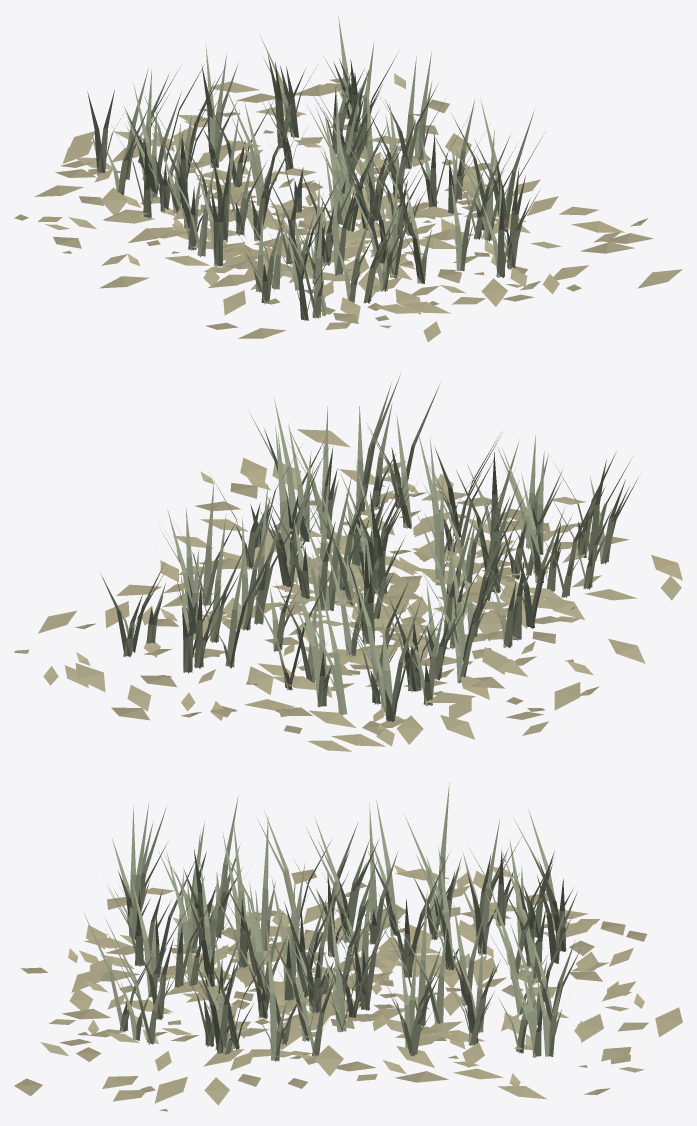
The model's file is AE_C02_IndoorGrowth.fbx.
3 renders of one model, top to bottom at view 1: azimuth 30°, elevation 25°; view 2: azimuth 150°, elevation 25°; view 3: azimuth 270°, elevation 25°, orthographic. The views are drawn at different scales.
Visible parts, largest first — view 1: AE_C02_IndoorGrowth_LOD0; view 2: AE_C02_IndoorGrowth_LOD0; view 3: AE_C02_IndoorGrowth_LOD0.
Part boxes in pixels (x1,y1,x2,y2): AE_C02_IndoorGrowth_LOD0: (14,16,682,341); AE_C02_IndoorGrowth_LOD0: (14,374,682,751); AE_C02_IndoorGrowth_LOD0: (14,782,682,1111).
Size of what is drawn, in the model's own units: 235 by 54.82 by 268.
